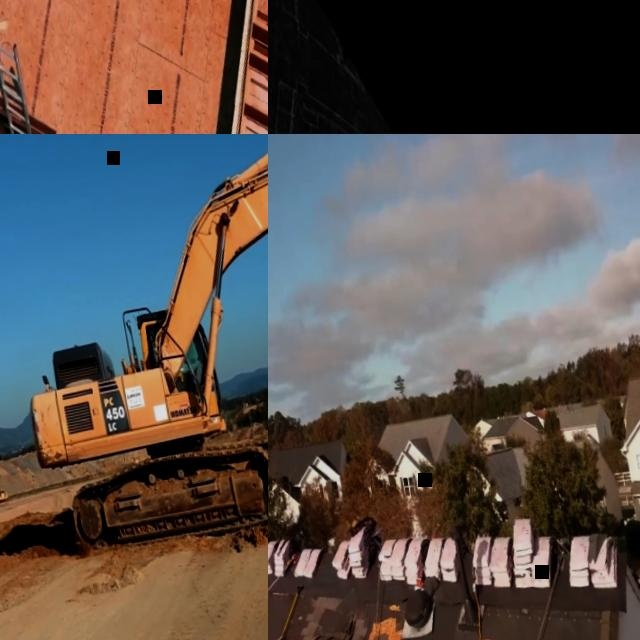machinery: (0, 134, 268, 561)
